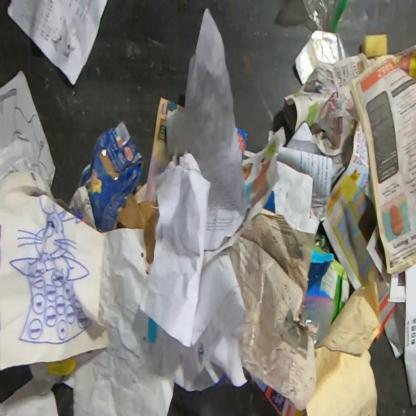cardboard: (76, 119, 145, 233), (117, 194, 159, 264), (320, 259, 352, 325), (314, 230, 332, 254)
soft_plastic: (301, 0, 350, 34)
